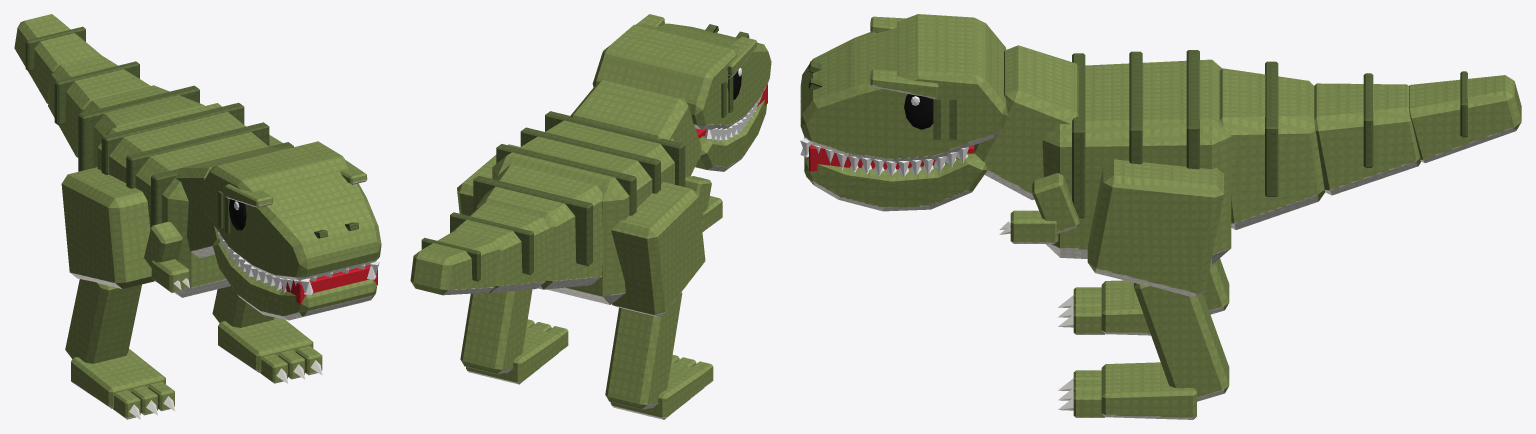
Rendered from 18_T_Rex.glb.
The picture shows the model from 3 angles, left to right: view 1: azimuth 30°, elevation 25°; view 2: azimuth 150°, elevation 25°; view 3: azimuth 270°, elevation 25°; orthographic projection. The views are drawn at different scales.
Visible parts, largest first — view 1: 18_T_Rex; view 2: 18_T_Rex; view 3: 18_T_Rex.
Part boxes in pixels (box(x1,y1,x2,y2)): 18_T_Rex: box(14, 14, 381, 419); 18_T_Rex: box(410, 14, 771, 419); 18_T_Rex: box(800, 14, 1521, 419).
Size of the model in its own units: 5.58 by 7.25 by 14.74.
Materials: 1 (1 with a texture image).
